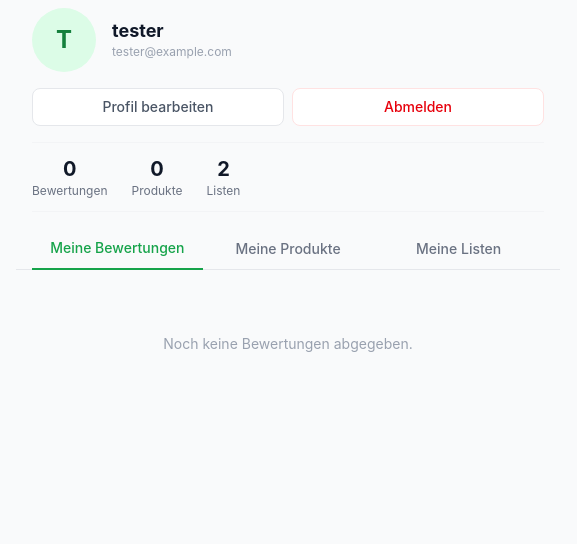
Test: ProfileView › given the user has lists › shows the count and every list with visibility badge and product count
This screenshot has width=577, height=544.
Expected: the tab "Meine Bewertungen" is shown, [32, 228, 203, 270]
What coordinates should you click on to do the following:
click the tab with aria-label "Meine Listen"
I would click on:
 (459, 248)
Its box is [373, 228, 544, 269].
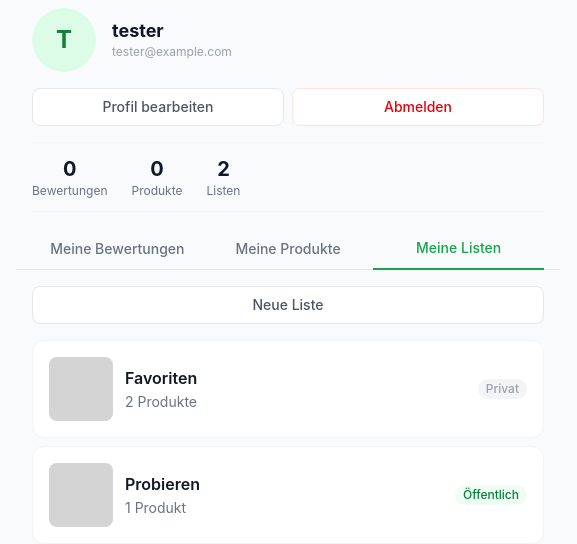
Now the text "Favoriten" is shown, box [125, 368, 197, 388]
Now the text "Privat" is shown, box [478, 379, 527, 399]
Now the text "Öffentlich" is shown, box [455, 485, 527, 505]
